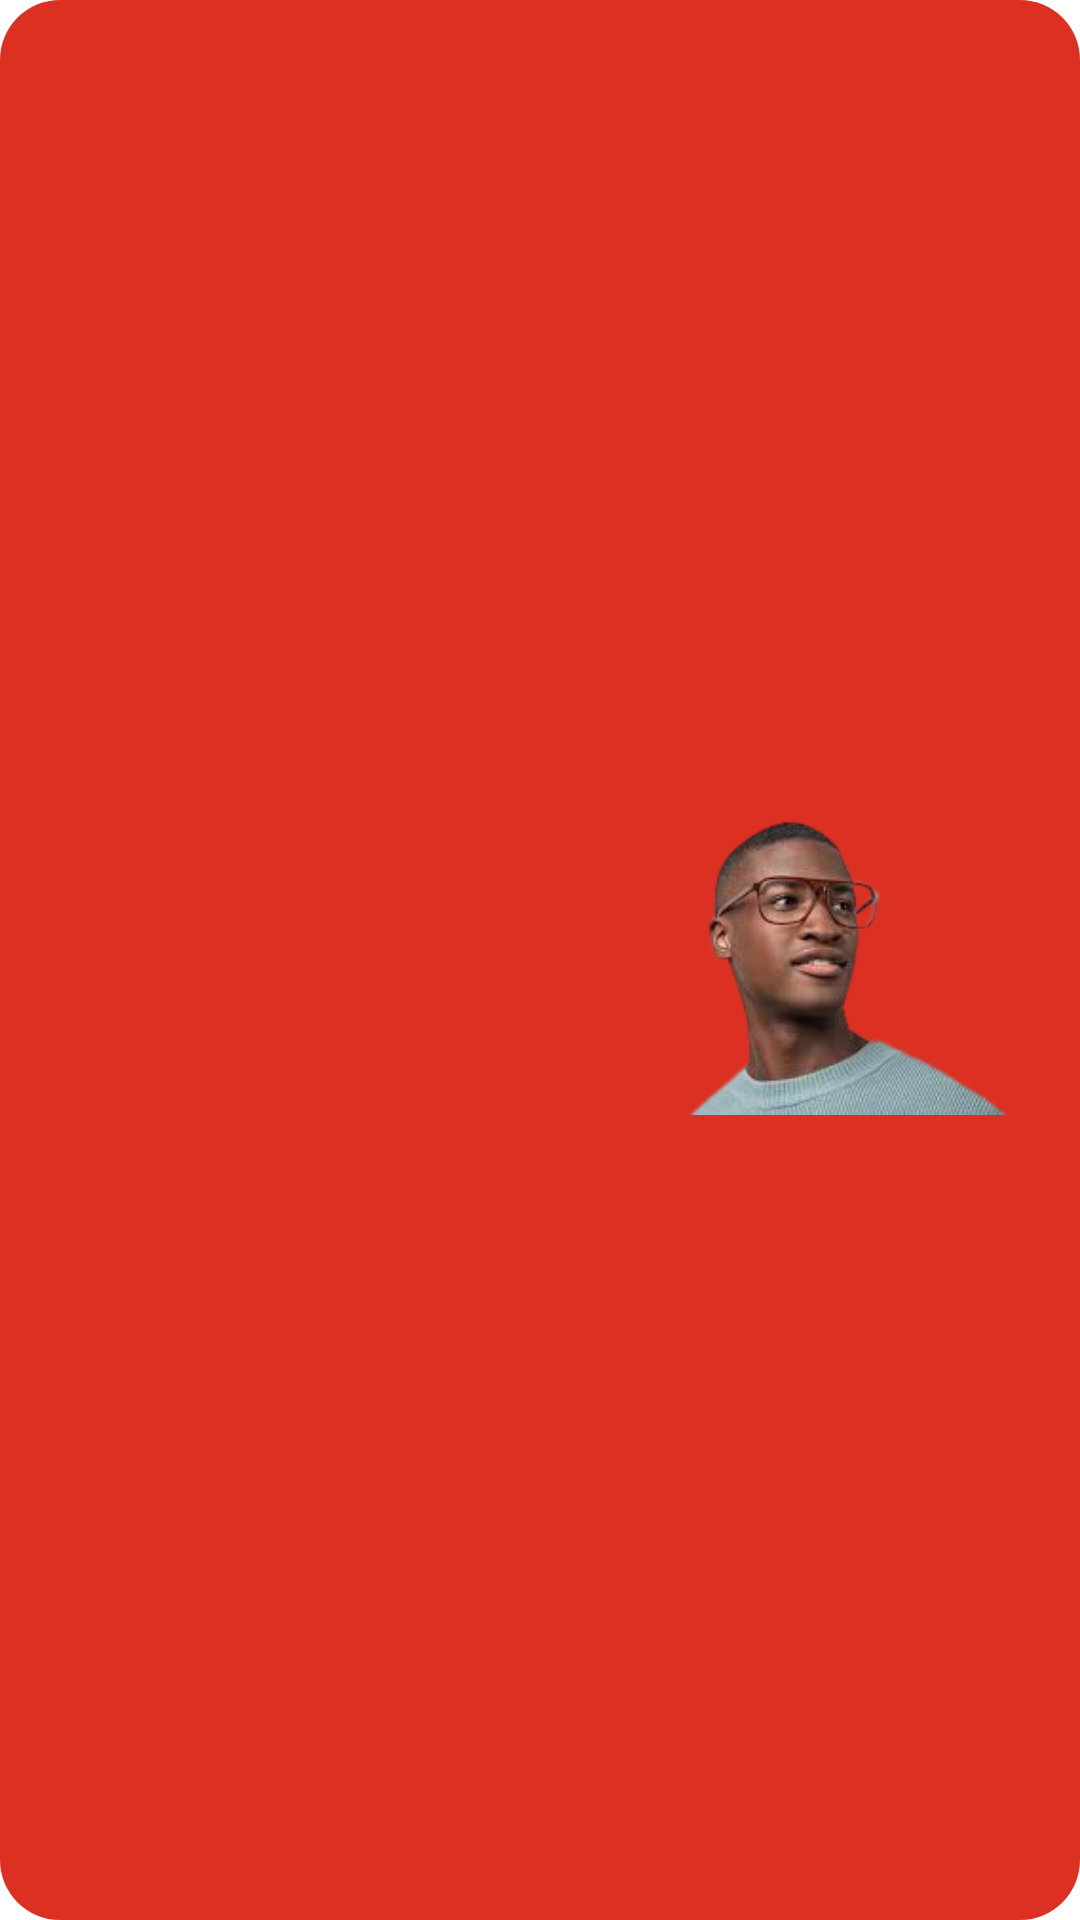

Icons on this 1080×1920 Android screen, each with its box as (left=x1, top=y1, right=x2, bottom=y2):
images: (left=690, top=822, right=1006, bottom=1115)
